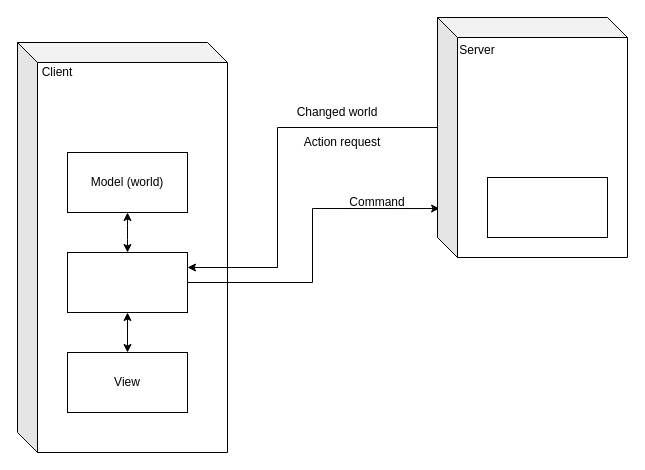
This 645x470 diagram has some shape labels left out. The shapes that lost their labels are listed below. From the top down, each one's centre as x and y in pixels, then its label:
At (547,207): "World".
At (127,282): "Controller".
